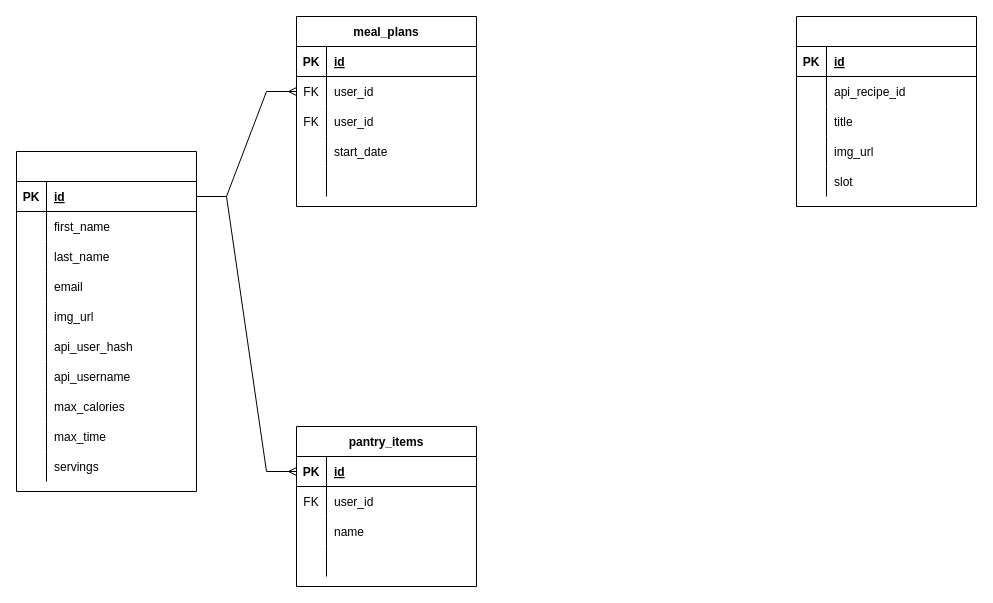
This 993x603 diagram has some shape labels left out. Here are the shapes that lost their labels. From the top down, the box of each, then its label:
(796, 16, 976, 206): recipes
(16, 150, 196, 492): users
